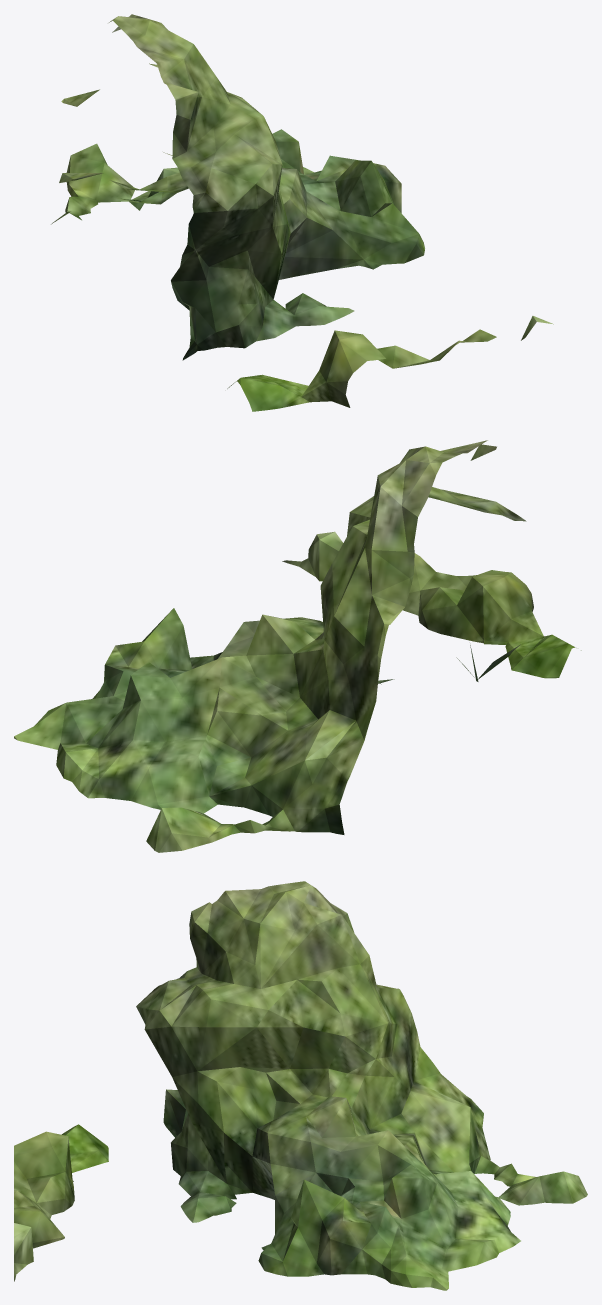
The picture shows the model from 3 angles, top to bottom: view 1: azimuth 30°, elevation 25°; view 2: azimuth 150°, elevation 25°; view 3: azimuth 270°, elevation 25°; orthographic projection. The views are drawn at different scales.
Size of the model in its own units: 11.02 by 9.16 by 18.11.
Materials: 1 (1 with a texture image).
